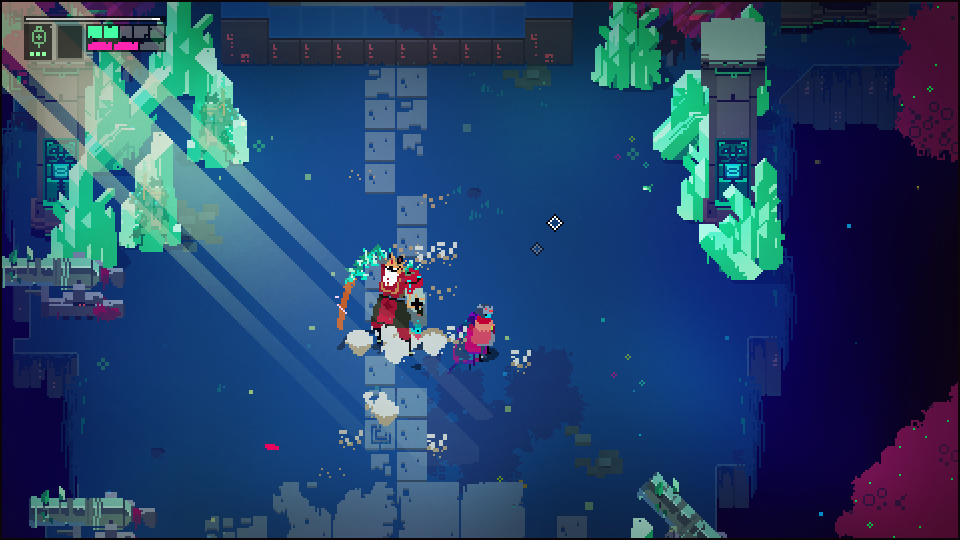hanged_man: (327, 248, 430, 356)
player: (469, 303, 500, 364)
